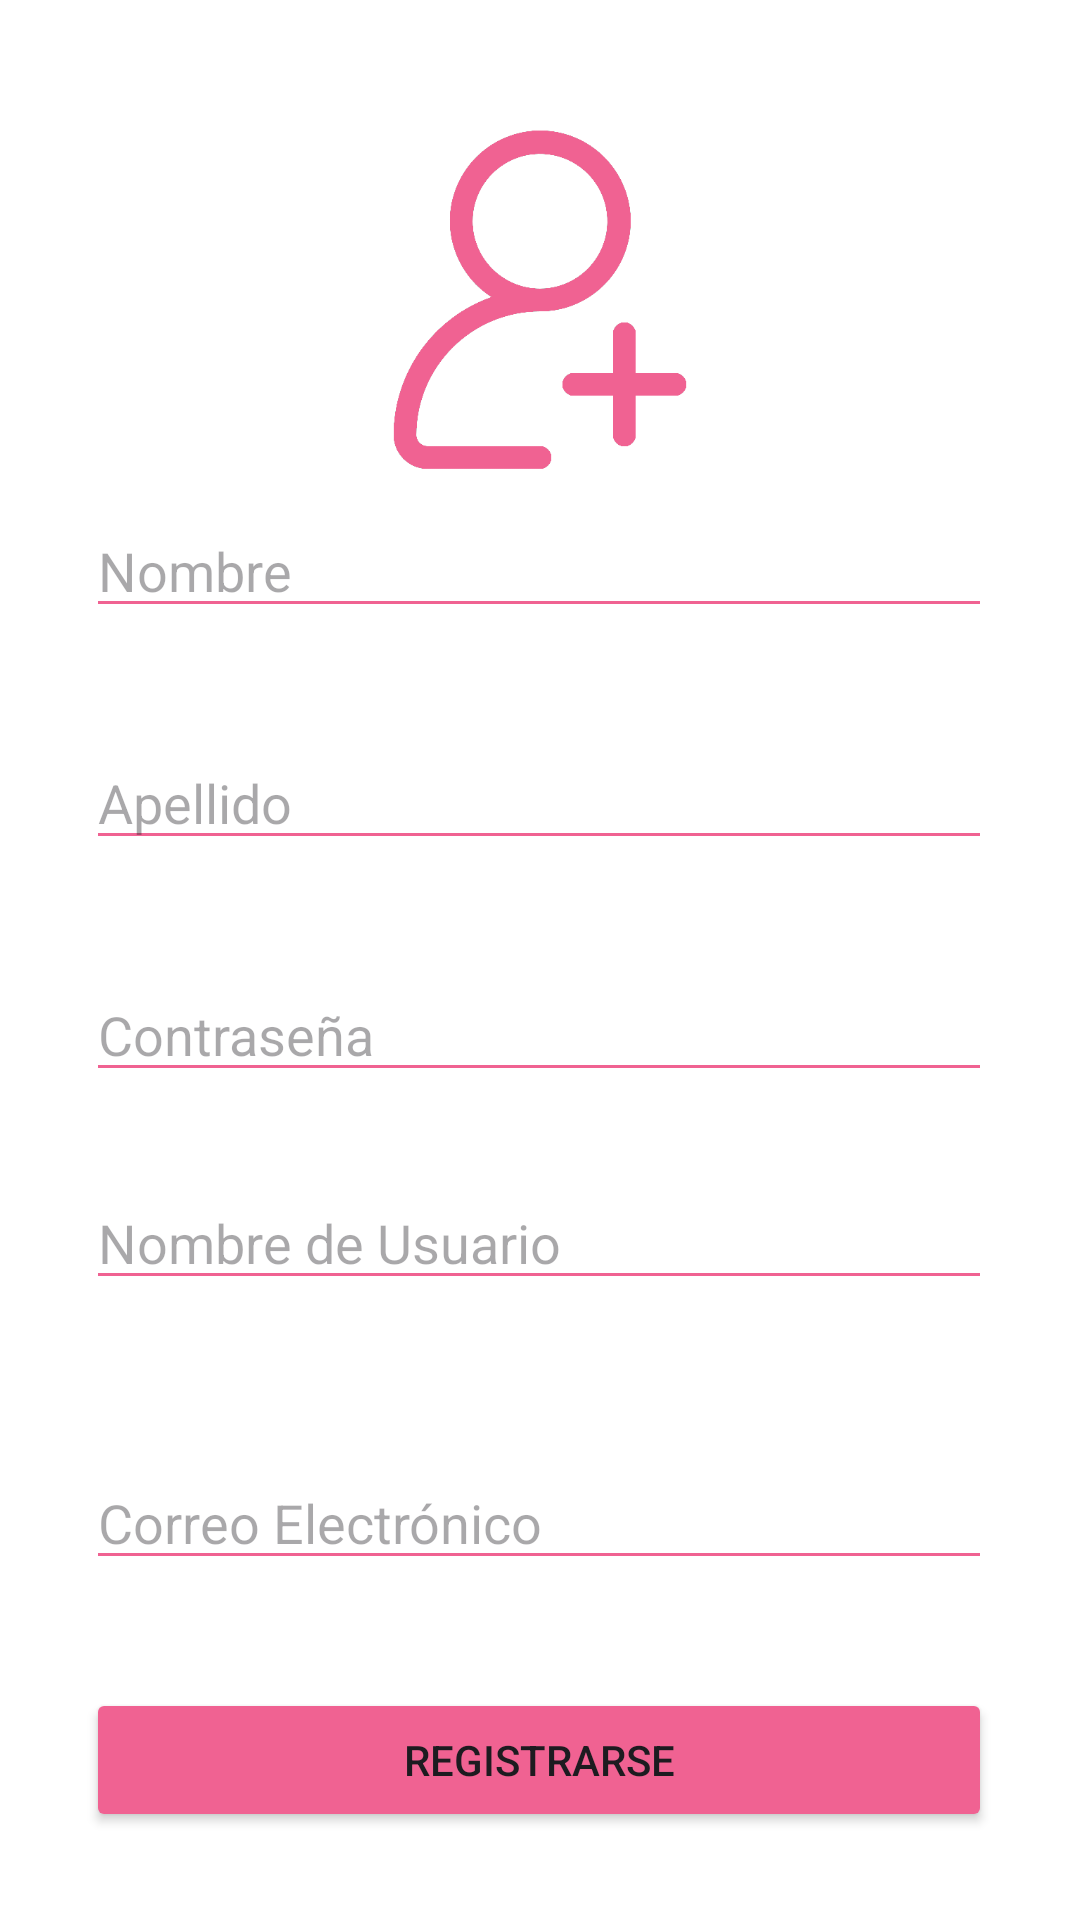

Named icons in this screenshot (1080 x 1920) and their bounding boxes, (x1, y1, x2, y2):
registrousuario: (394, 130, 686, 469)
